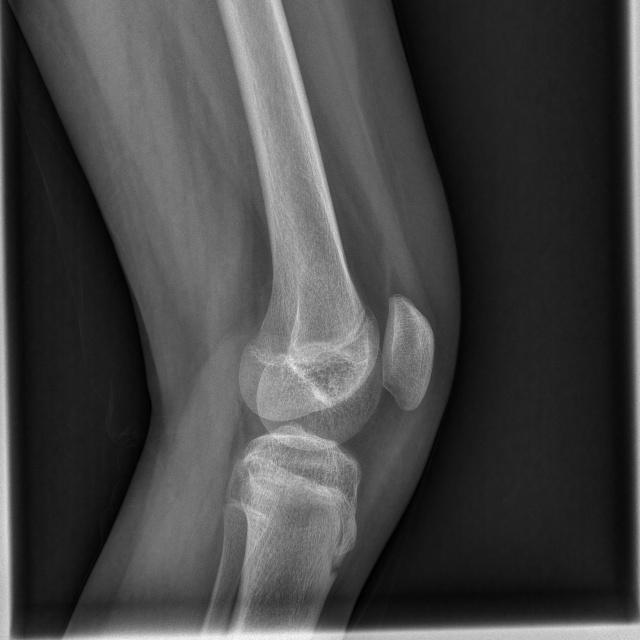Knee: (225, 290, 436, 502)
